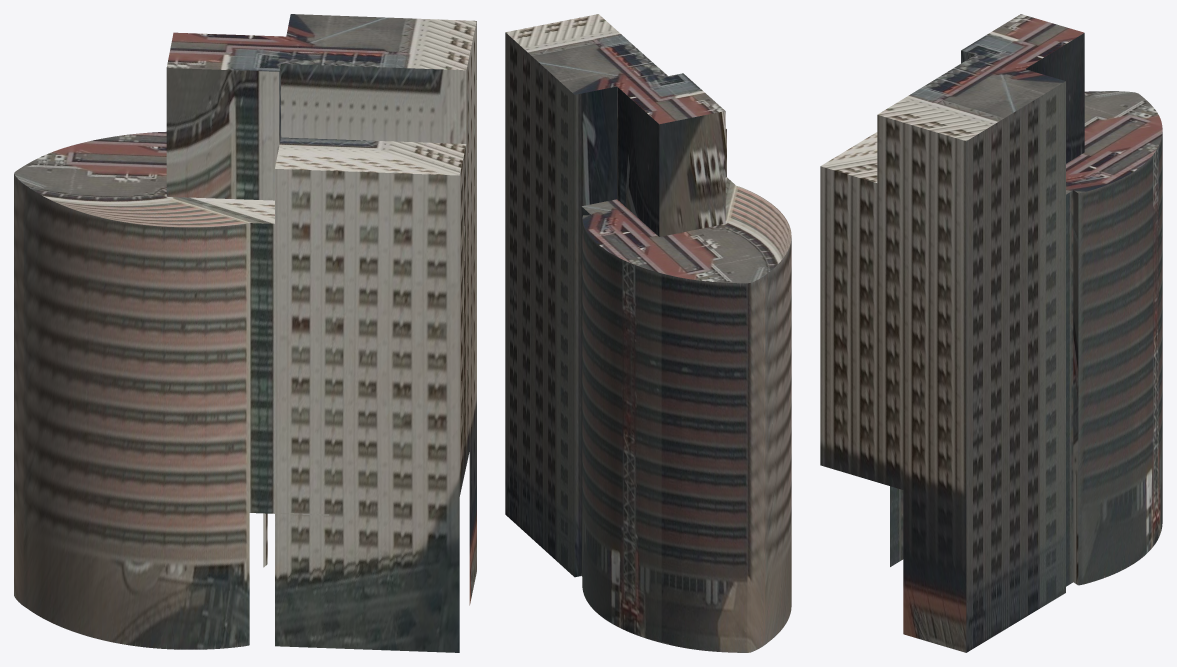
Rendered from {E773B9A4-D3BE-46B4-BEF3-04F4D190F358}.gltf.
The picture shows the model from 3 angles, left to right: view 1: azimuth 30°, elevation 25°; view 2: azimuth 150°, elevation 25°; view 3: azimuth 270°, elevation 25°; orthographic projection. The views are drawn at different scales.
Visible parts, largest first — view 1: Z_UP; view 2: Z_UP; view 3: Z_UP.
Part boxes in pixels (x1=…): Z_UP: x1=14, y1=14, x2=476, y2=652; Z_UP: x1=505, y1=14, x2=791, y2=652; Z_UP: x1=820, y1=14, x2=1162, y2=652.
Bounding box in the file's own units: 45.39 × 63.77 × 38.64.
15 materials, 14 textured.
